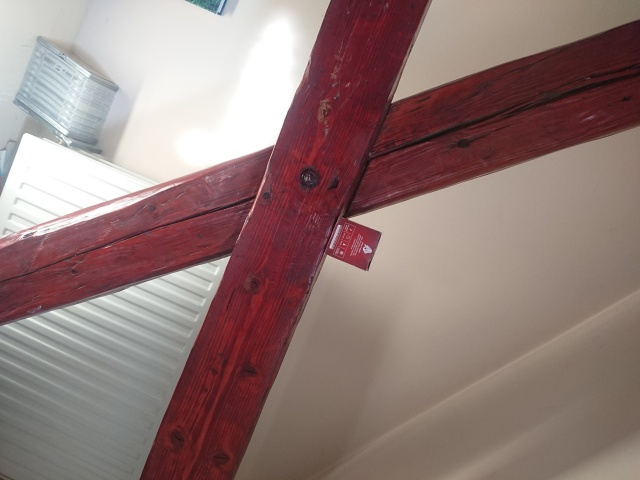Franck Apple Cinnamon Tea 60g: (321, 213, 383, 272)
